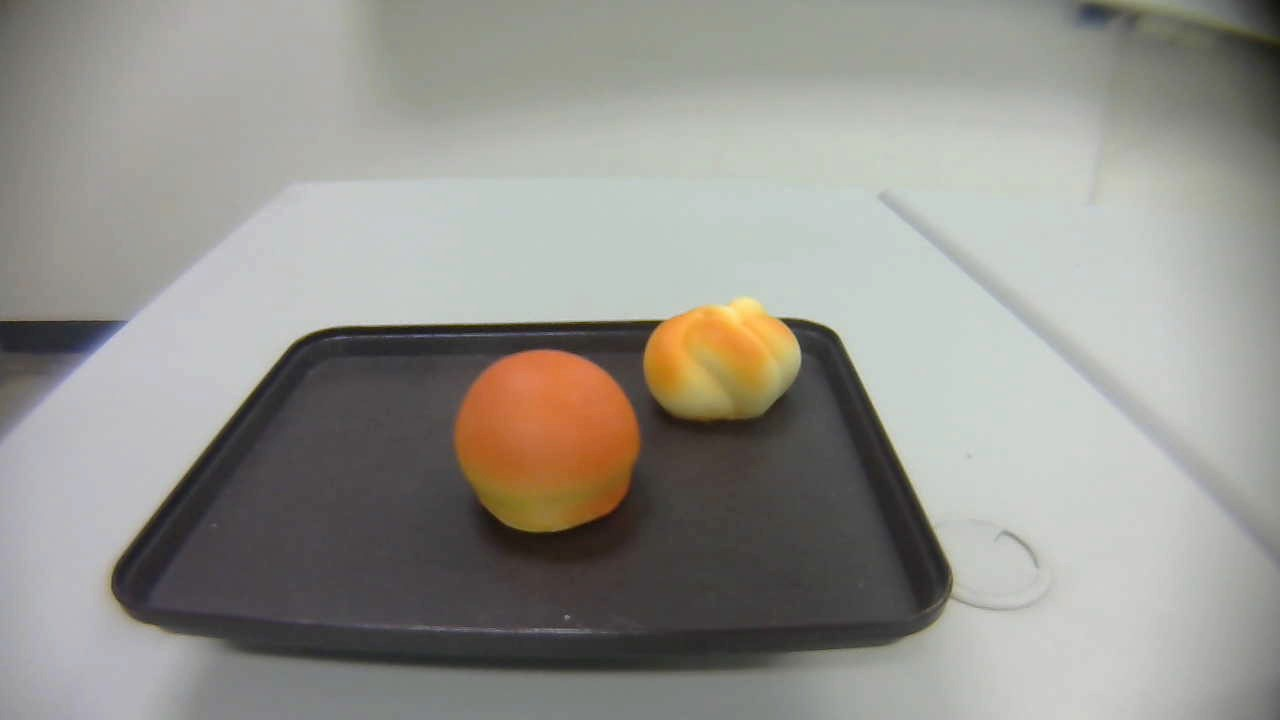bun: (454, 349, 643, 532)
twist bread: (642, 297, 802, 424)
